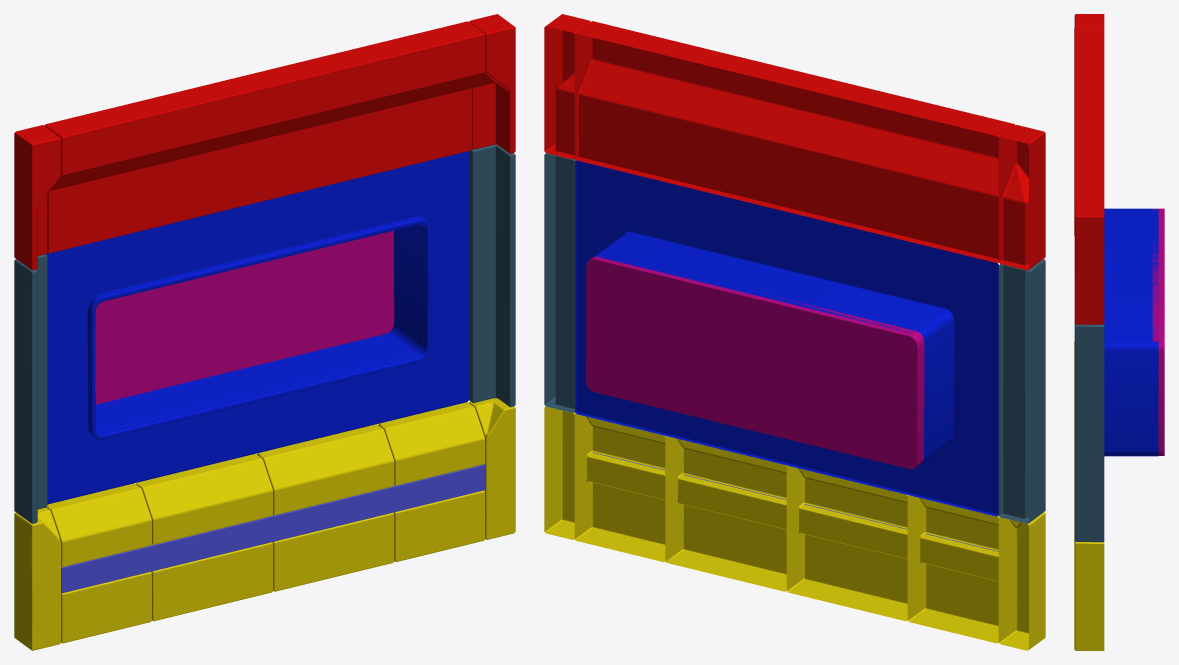
The model's file is Window_inner.fbx.
The picture shows the model from 3 angles, left to right: view 1: azimuth 30°, elevation 25°; view 2: azimuth 150°, elevation 25°; view 3: azimuth 270°, elevation 25°; orthographic projection. The views are drawn at different scales.
Parts seen in each view (by area): view 1: Window_inner; view 2: Window_inner; view 3: Window_inner.
Part boxes in pixels (x1,y1,x2,y2): Window_inner: (14,14,515,650); Window_inner: (544,14,1045,650); Window_inner: (1074,14,1164,650).
Size of the model in its own units: 4 by 4 by 0.75.
